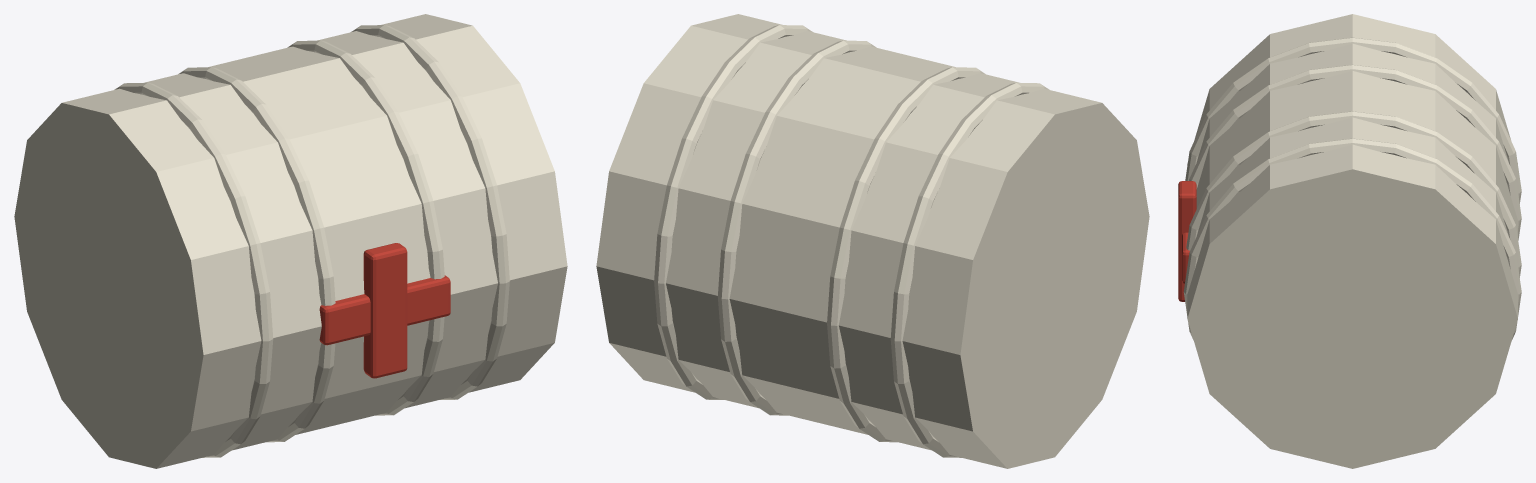
The model's file is bandage.glb.
3 renders of one model, left to right at view 1: azimuth 30°, elevation 25°; view 2: azimuth 150°, elevation 25°; view 3: azimuth 270°, elevation 25°, orthographic. The views are drawn at different scales.
Parts seen in each view (by area): view 1: bandage_Mesh; view 2: bandage_Mesh; view 3: bandage_Mesh.
Boxes of the visible parts, x1,y1,x2,y2 form: bandage_Mesh: [14, 14, 567, 468]; bandage_Mesh: [596, 14, 1149, 468]; bandage_Mesh: [1178, 14, 1521, 468].
Bounding box in the file's own units: 0.2 × 0.184 × 0.187.
